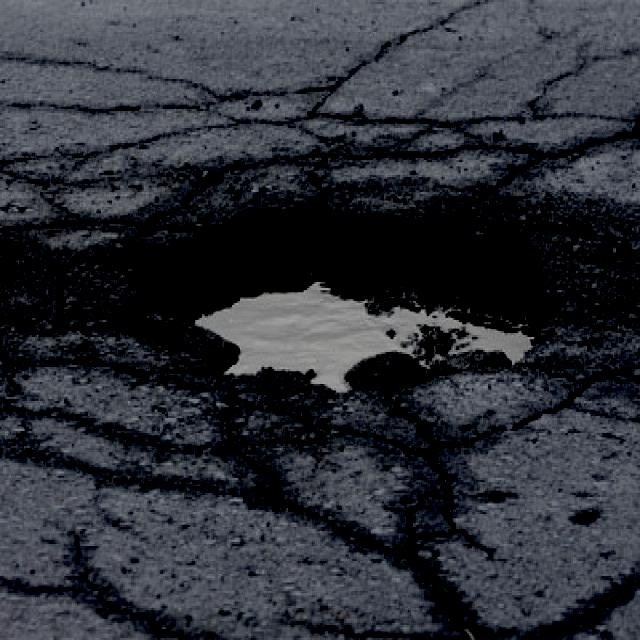Pothole: (114, 191, 580, 421)
